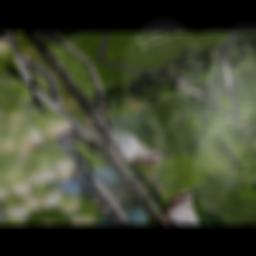Cuckoo: (30, 60, 178, 186)
